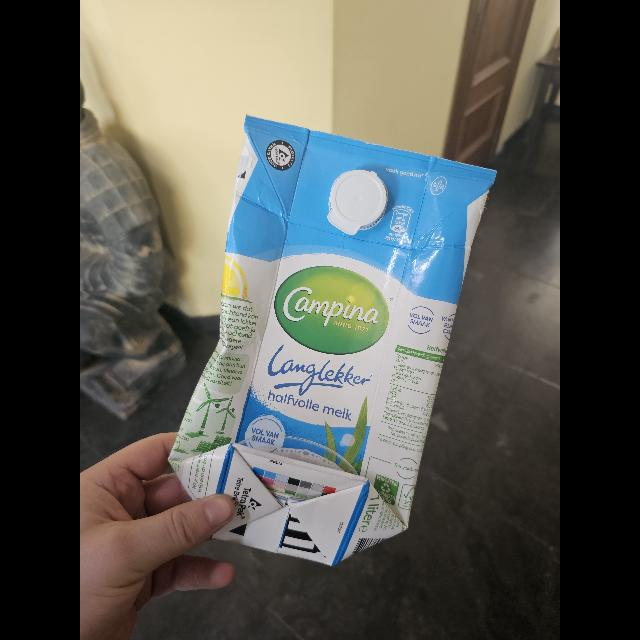Cardboard: (160, 114, 502, 566)
Plastic: (320, 161, 392, 243)
